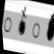correct: (42, 9, 54, 43)
no answer: (1, 13, 15, 34), (30, 19, 42, 39)
not correct: (14, 3, 31, 36)
